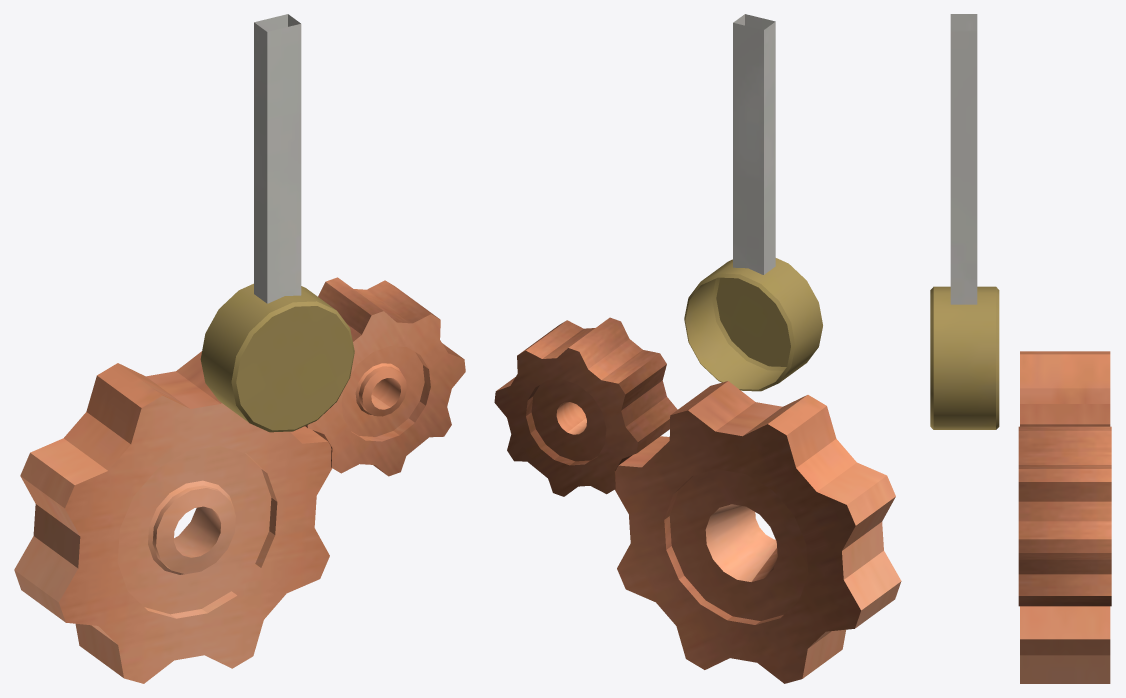
File: tile8_s3&s8a.fbx
3 views of the same model, side by side, from view 1: azimuth 30°, elevation 25°; view 2: azimuth 150°, elevation 25°; view 3: azimuth 270°, elevation 25° (orthographic). The views are drawn at different scales.
Parts seen in each view (by area): view 1: tile8_s8a, tile8_s3; view 2: tile8_s8a, tile8_s3; view 3: tile8_s8a, tile8_s3.
Part boxes in pixels (box(x1,y1,x2,y2)): tile8_s8a: box(14, 277, 465, 683); tile8_s3: box(200, 14, 354, 432); tile8_s8a: box(494, 317, 901, 683); tile8_s3: box(684, 14, 822, 391); tile8_s8a: box(1018, 351, 1111, 683); tile8_s3: box(930, 14, 999, 429).
Size of the model in its own units: 52.94 by 82.42 by 20.31.
